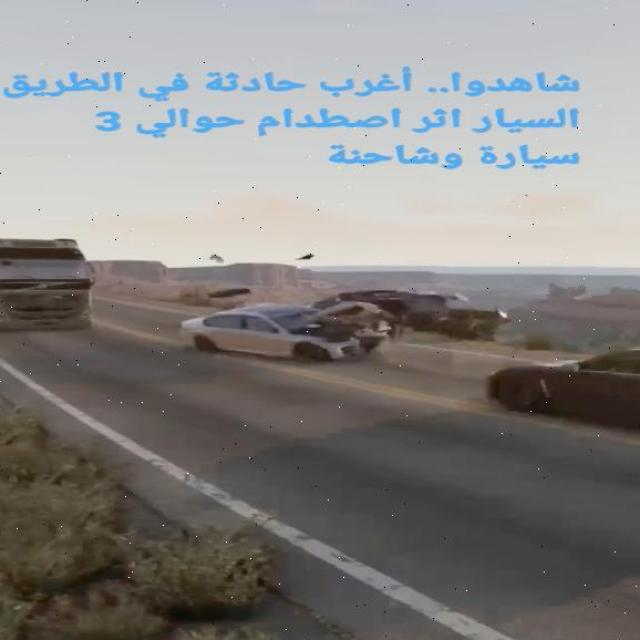accident: (168, 278, 502, 371)
